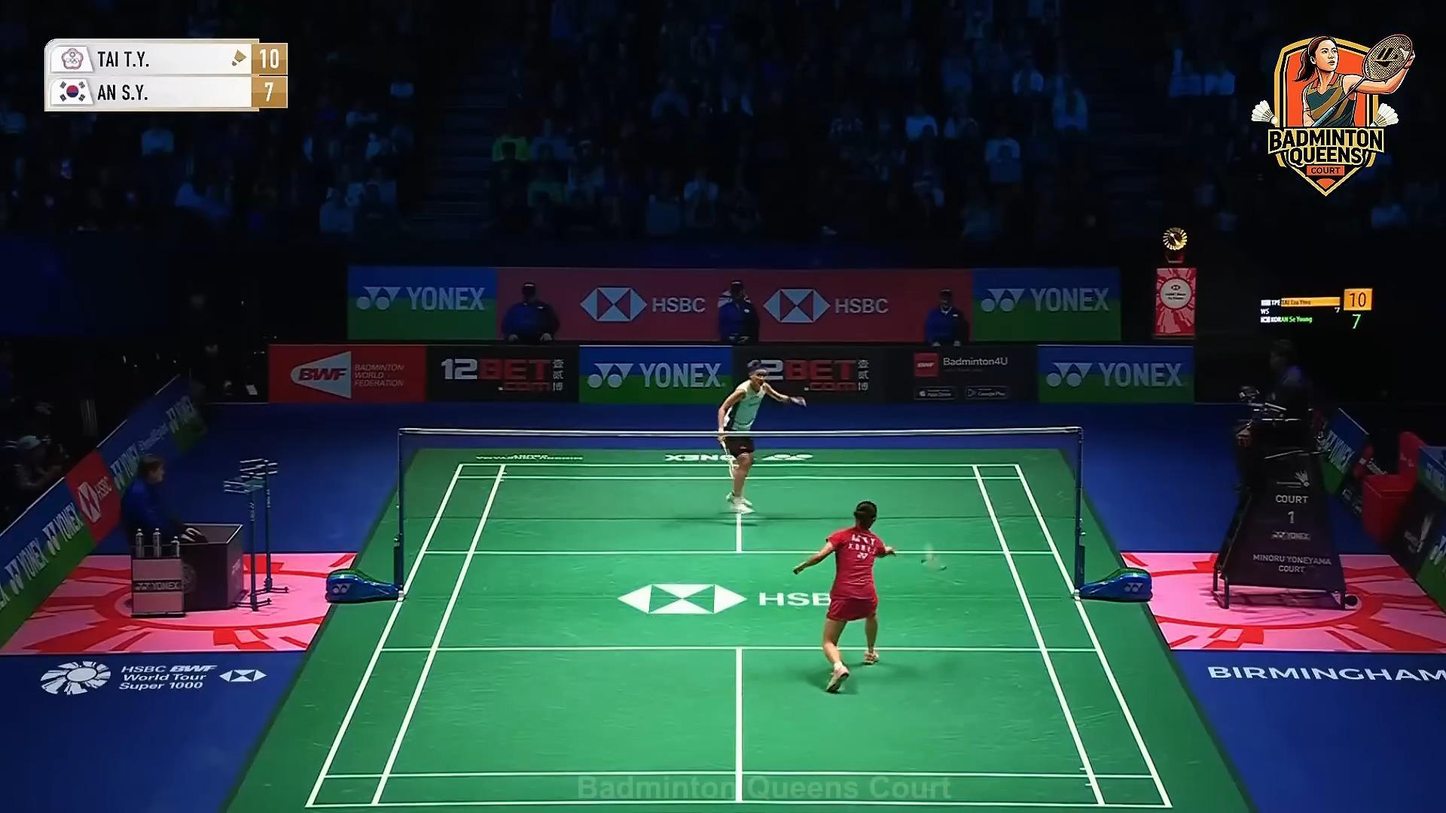shuttlecock: (924, 544, 934, 565)
